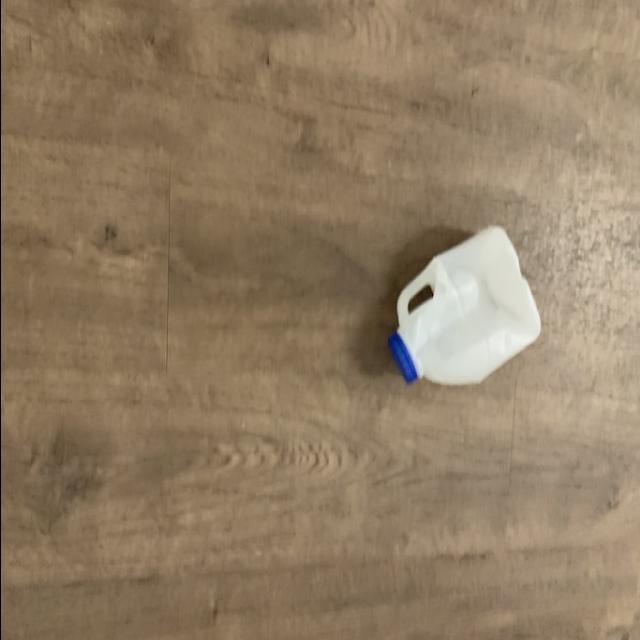HDPEM: (386, 218, 544, 392)
